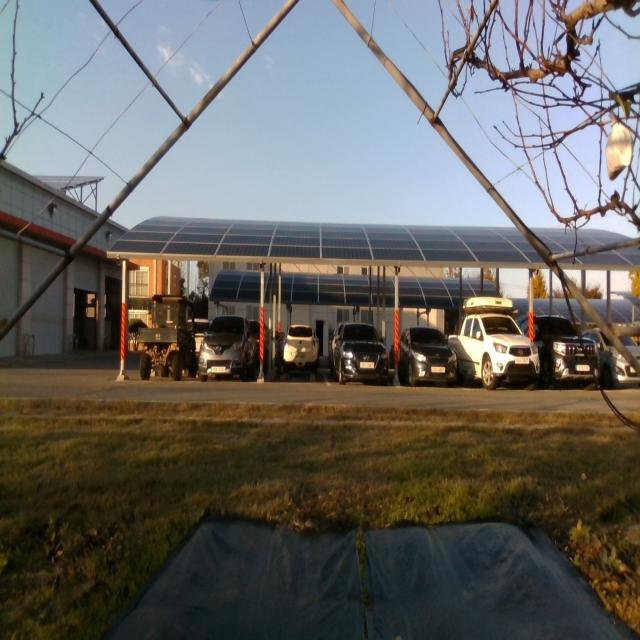pearbags: (606, 124, 634, 181)
